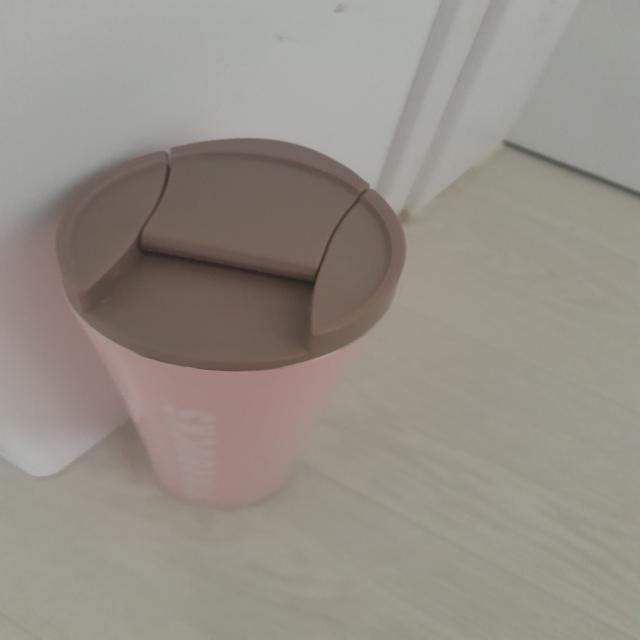waterbottle: (54, 138, 405, 507)
